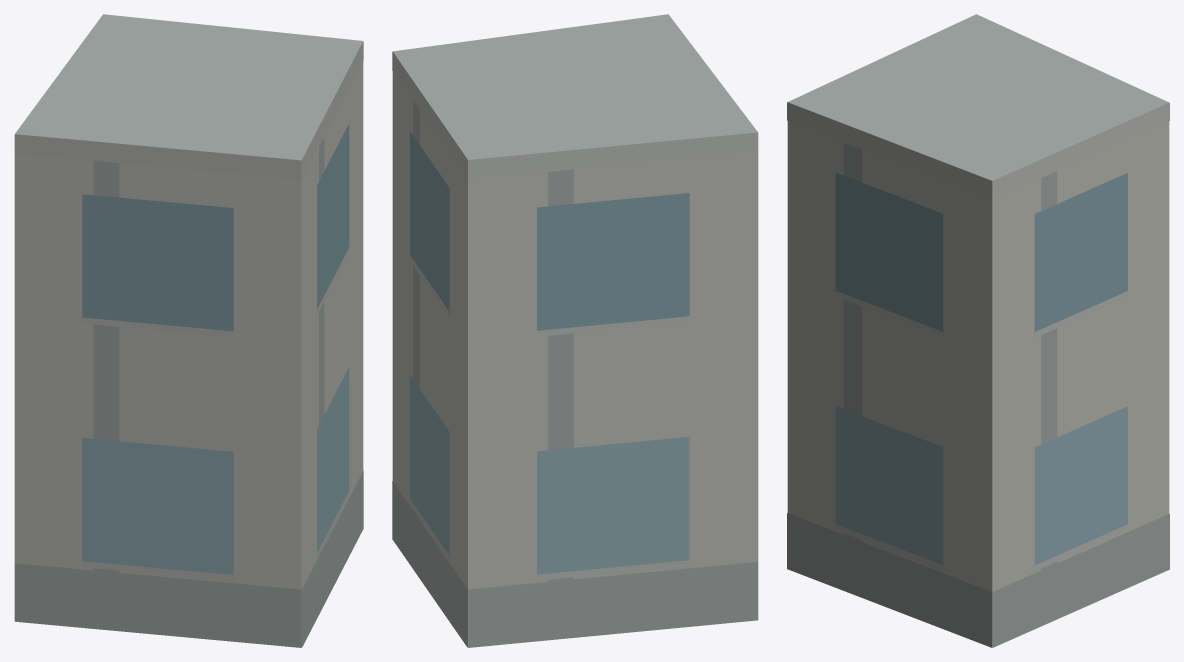
The model's file is survey-upis-32634913.glb.
The picture shows the model from 3 angles, left to right: view 1: azimuth 30°, elevation 25°; view 2: azimuth 150°, elevation 25°; view 3: azimuth 270°, elevation 25°; orthographic projection. The views are drawn at different scales.
Parts seen in each view (by area): view 1: survey-upis-32634913.tmp; view 2: survey-upis-32634913.tmp; view 3: survey-upis-32634913.tmp.
Boxes of the visible parts, x1,y1,x2,y2 form: survey-upis-32634913.tmp: (14,14,363,647); survey-upis-32634913.tmp: (392,14,758,647); survey-upis-32634913.tmp: (787,14,1169,647).
Bounding box in the file's own units: 4.68 × 6.1 × 4.53.
